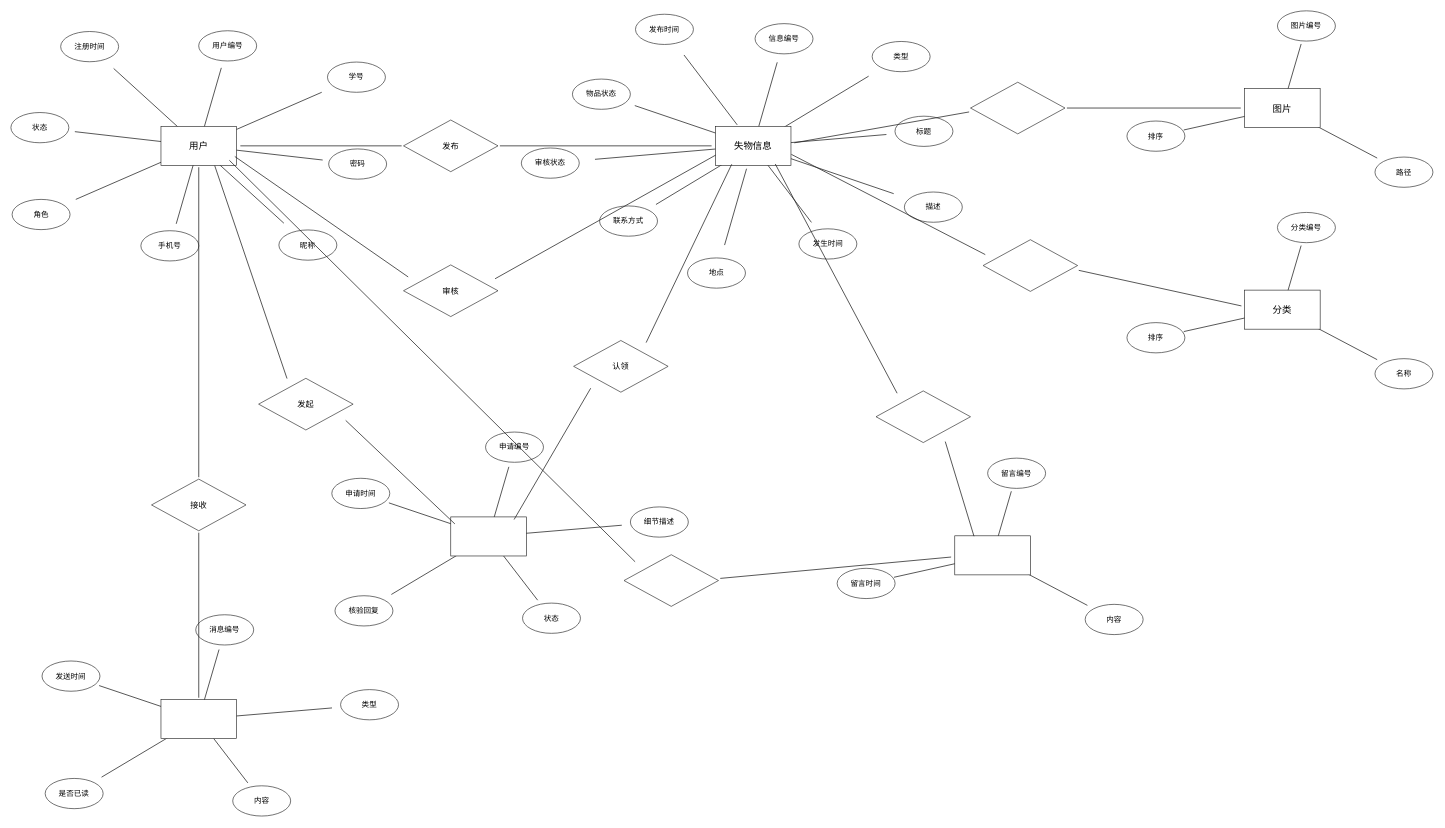
Image size: 1445x828. Some labels were removed from this diagram. Here are the shapes that lost their labels. From the top down, the centre of each, then its label:
(x=1017, y=108): 包含
(x=1030, y=265): 属于
(x=923, y=416): 被留言
(x=488, y=536): 认领申请
(x=992, y=555): 留言
(x=671, y=580): 发表
(x=198, y=719): 站内消息
